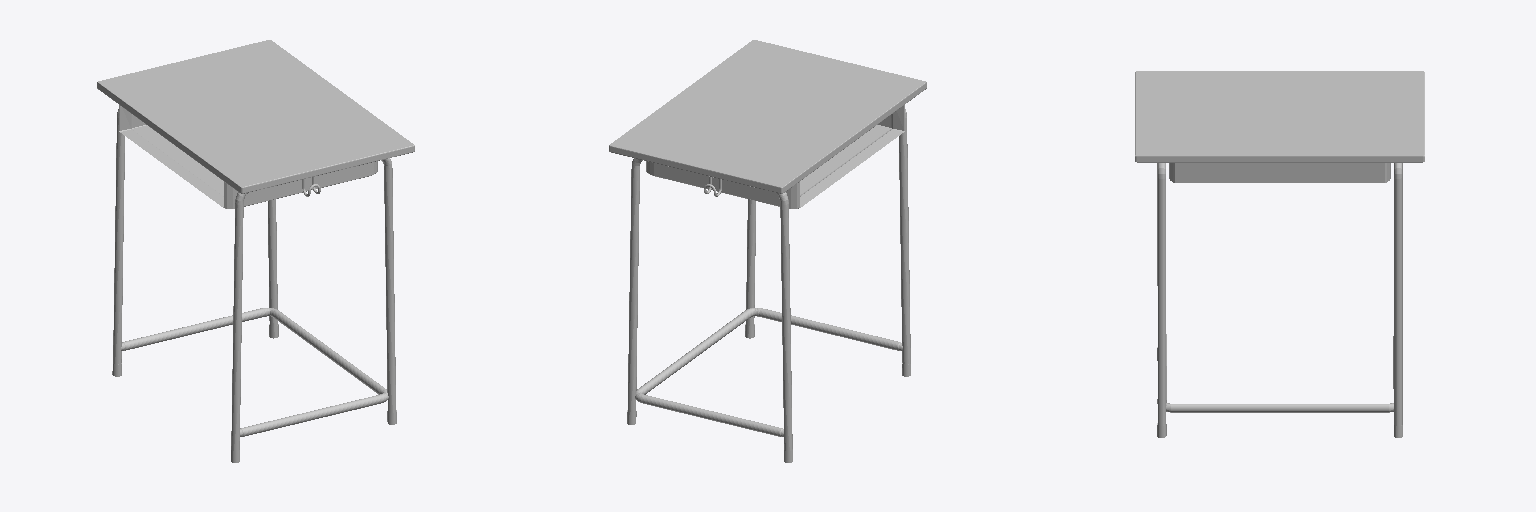
Rendered from school desk.obj.
The picture shows the model from 3 angles: view 1: azimuth 30°, elevation 25°; view 2: azimuth 150°, elevation 25°; view 3: azimuth 270°, elevation 25°; orthographic projection.
Parts seen in each view (by area): view 1: tenban, asi_Cylinder.006, tanaita, asikake_Cylinder.007; view 2: tenban, asi_Cylinder.006, tanaita, asikake_Cylinder.007; view 3: tenban, asi_Cylinder.006, tanaita, asikake_Cylinder.007.
Boxes of the visible parts, x1,y1,x2,y2 form: tenban: [97, 40, 414, 193]; asi_Cylinder.006: [112, 109, 396, 462]; tanaita: [119, 105, 377, 208]; asikake_Cylinder.007: [121, 308, 388, 436]; tenban: [609, 40, 926, 193]; asi_Cylinder.006: [627, 109, 910, 462]; tanaita: [646, 105, 904, 208]; asikake_Cylinder.007: [635, 308, 902, 436]; tenban: [1135, 71, 1424, 162]; asi_Cylinder.006: [1157, 163, 1402, 437]; tanaita: [1169, 163, 1390, 182]; asikake_Cylinder.007: [1157, 334, 1393, 412].
Bounding box in the file's own units: 4.52 × 7.08 × 6.53.